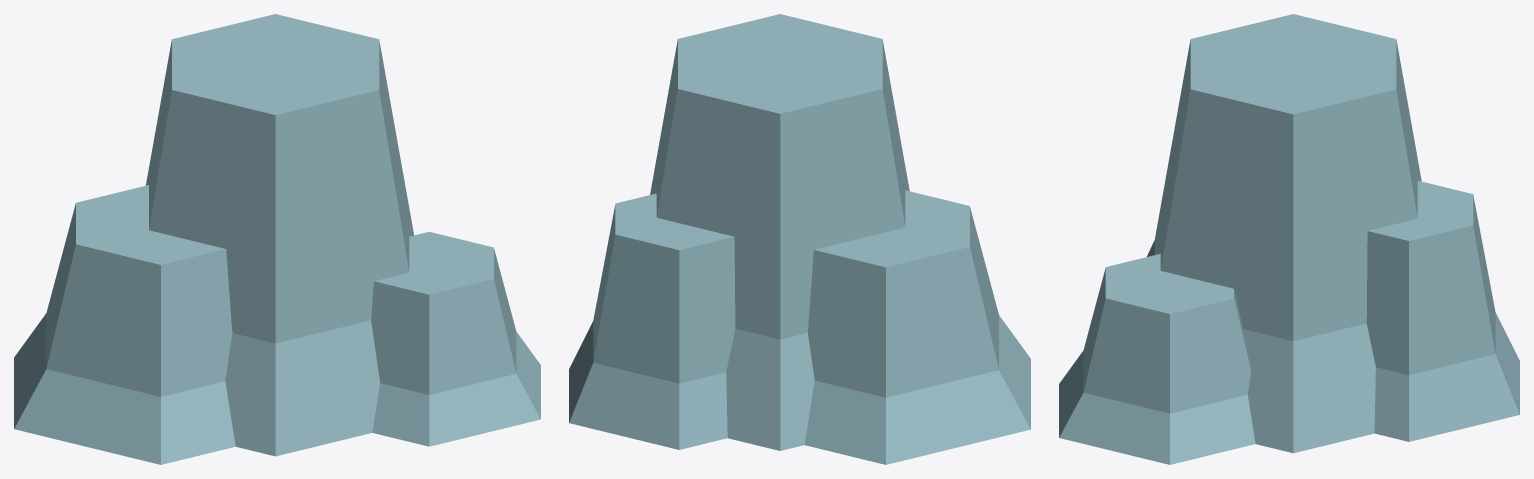
File: rocksTall.fbx
The picture shows the model from 3 angles, left to right: view 1: azimuth 30°, elevation 25°; view 2: azimuth 150°, elevation 25°; view 3: azimuth 270°, elevation 25°; orthographic projection.
Parts seen in each view (by area): view 1: rocksTall; view 2: rocksTall; view 3: rocksTall.
Part boxes in pixels (left/top/right/bottom): rocksTall: left=14, top=14, right=540, bottom=464; rocksTall: left=569, top=14, right=1030, bottom=464; rocksTall: left=1059, top=14, right=1519, bottom=464.
Bounding box in the file's own units: 9.34 × 5.9 × 8.15.
